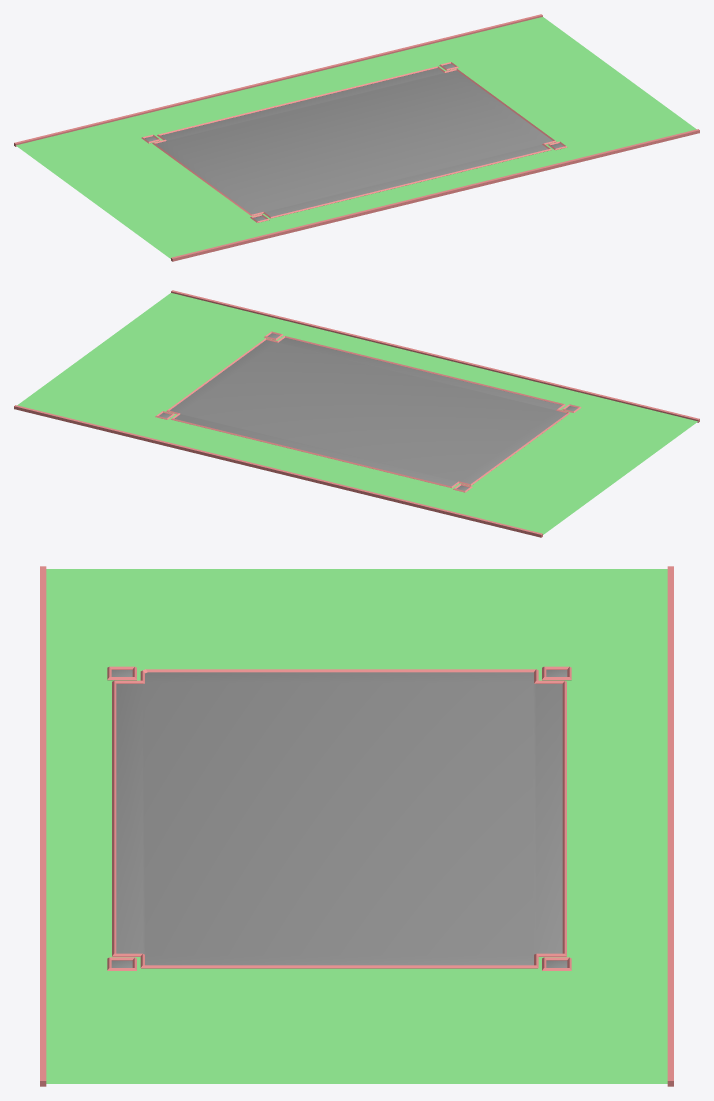
File: S_Envi_common_Ground_01a.gltf
The picture shows the model from 3 angles, top to bottom: view 1: azimuth 30°, elevation 25°; view 2: azimuth 150°, elevation 25°; view 3: azimuth 270°, elevation 25°; orthographic projection. The views are drawn at different scales.
Visible parts, largest first — view 1: S_Envi_common_Ground_01a; view 2: S_Envi_common_Ground_01a; view 3: S_Envi_common_Ground_01a.
Boxes of the visible parts, x1=… form: S_Envi_common_Ground_01a: x1=14, y1=14, x2=699, y2=261; S_Envi_common_Ground_01a: x1=14, y1=290, x2=699, y2=537; S_Envi_common_Ground_01a: x1=40, y1=566, x2=673, y2=1086.
Bounding box in the file's own units: 13.39 × 0.0707 × 6.97.
